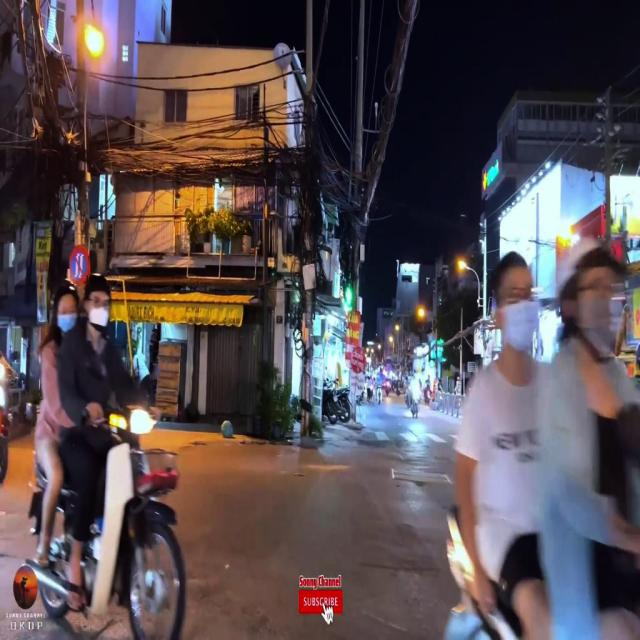cam_do_xe: (70, 246, 90, 284)
